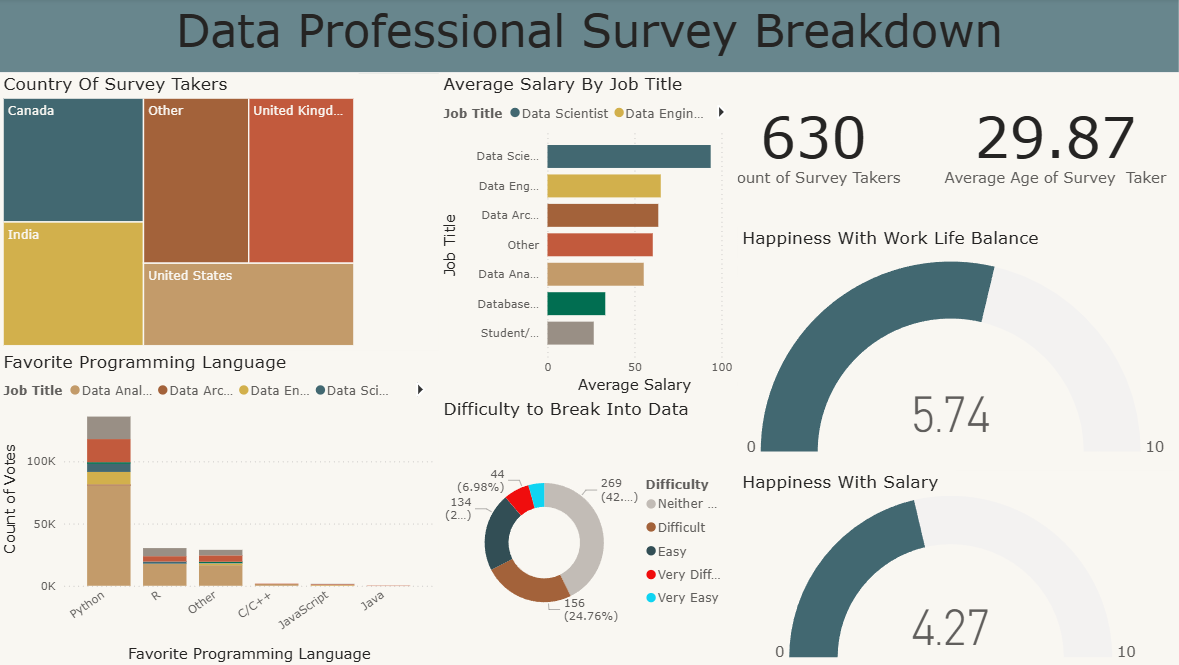

The dashboard page shown, as its layout file describes it:
{"tool":"powerbi","page":{"name":"Page 1","canvas":[1280,720],"ordinal":0},"visuals":[{"type":"textbox","box":[9.6,0,1270.7,81],"z":0},{"type":"textbox","box":[10,290,280,280],"z":1},{"type":"card","fields":{"Values":["CountNonNull(Data Professional Survey.Index)"]},"box":[760.2,81,252.5,150.9],"z":2},{"type":"card","fields":{"Values":["Avg(Data Professional Survey.Q10 - Current Age)"]},"box":[1012.7,81,267.6,150.9],"z":3},{"type":"barChart","title":"Average Salary By Job Title","fields":{"Y":["Avg(Data Professional Survey.Average Salary)"],"Category":["Data Professional Survey.Q1 - Which Title Best Fits your Current Role?.1"],"Series":["Data Professional Survey.Q1 - Which Title Best Fits your Current Role?.1"]},"box":[482.8,80.7,321.4,349.7],"z":4},{"type":"columnChart","title":"Favorite Programming Language","fields":{"Category":["Data Professional Survey.Q5 - Favorite Programming Language.1"],"Y":["Sum(Data Professional Survey.Index)"],"Series":["Data Professional Survey.Q1 - Which Title Best Fits your Current Role?.1"]},"box":[9.4,379.2,473.4,340.2],"z":5},{"type":"treemap","title":"Country Of Survey Takers","fields":{"Group":["Data Professional Survey.Q11 - Which Country do you live in?.1"],"Values":["Count(Data Professional Survey.Q11 - Which Country do you live in?.1)"]},"box":[9.4,80.7,387.3,298.6],"z":6},{"type":"gauge","title":"Happiness With Work Life Balance","fields":{"Y":["Avg(Data Professional Survey.Q6 - How Happy are you in your Current Position with the following? (Work/Life Balance))"],"MinValue":["Min(Data Professional Survey.Q6 - How Happy are you in your Current Position with the following? (Work/Life Balance))1"],"MaxValue":["Max(Data Professional Survey.Q6 - How Happy are you in your Current Position with the following? (Work/Life Balance))2"]},"box":[804.2,246.1,469.3,262.2],"z":7},{"type":"gauge","title":"Happiness With Salary","fields":{"Y":["Avg(Data Professional Survey.Q6 - How Happy are you in your Current Position with the following? (Salary))"],"MinValue":["Min(Data Professional Survey.Q6 - How Happy are you in your Current Position with the following? (Salary))"],"MaxValue":["Max(Data Professional Survey.Q6 - How Happy are you in your Current Position with the following? (Salary))"]},"box":[804.2,508.3,469.3,211.1],"z":8},{"type":"donutChart","title":"Difficulty to Break Into Data","fields":{"Category":["Data Professional Survey.Q7 - How difficult was it for you to break into Data?"],"Y":["CountNonNull(Data Professional Survey.Q7 - How difficult was it for you to break into Data?)"]},"box":[482.8,430.3,321.4,289.1],"z":9}]}

Visuals, with their boxes in screenshot pixels (x1, y1, x2, y2), scaled from the page's 1280x720 canvas onto the 1179x665 screenshot:
textbox: [9, 0, 1178, 75]
textbox: [9, 268, 267, 526]
card - CountNonNull(Data Professional Survey.Index): [700, 75, 933, 214]
card - Avg(Data Professional Survey.Q10 - Current Age): [933, 75, 1178, 214]
"Average Salary By Job Title" barChart: [445, 75, 741, 398]
"Favorite Programming Language" columnChart: [9, 350, 445, 664]
"Country Of Survey Takers" treemap: [9, 75, 365, 350]
"Happiness With Work Life Balance" gauge: [741, 227, 1173, 469]
"Happiness With Salary" gauge: [741, 469, 1173, 664]
"Difficulty to Break Into Data" donutChart: [445, 397, 741, 664]
